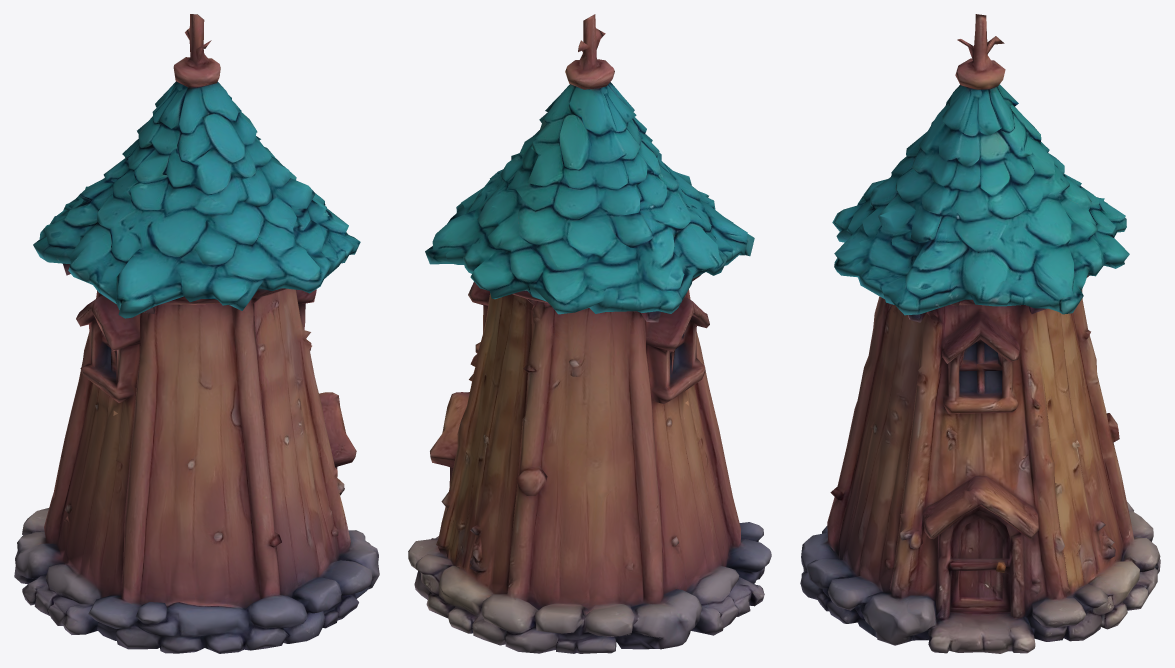
File: windmill-tower.glb
3 views of the same model, side by side, from view 1: azimuth 30°, elevation 25°; view 2: azimuth 150°, elevation 25°; view 3: azimuth 270°, elevation 25° (orthographic).
Parts seen in each view (by area): view 1: tripo_node_4b86b782-f377-4ebb-8469-0016ca548a89; view 2: tripo_node_4b86b782-f377-4ebb-8469-0016ca548a89; view 3: tripo_node_4b86b782-f377-4ebb-8469-0016ca548a89.
Part boxes in pixels (<box>): tripo_node_4b86b782-f377-4ebb-8469-0016ca548a89: <box>14,14,379,653</box>; tripo_node_4b86b782-f377-4ebb-8469-0016ca548a89: <box>408,14,771,653</box>; tripo_node_4b86b782-f377-4ebb-8469-0016ca548a89: <box>800,14,1160,653</box>.
Size of the model in its own units: 3.92 by 7 by 4.04.
Materials: 1 (1 with a texture image).
